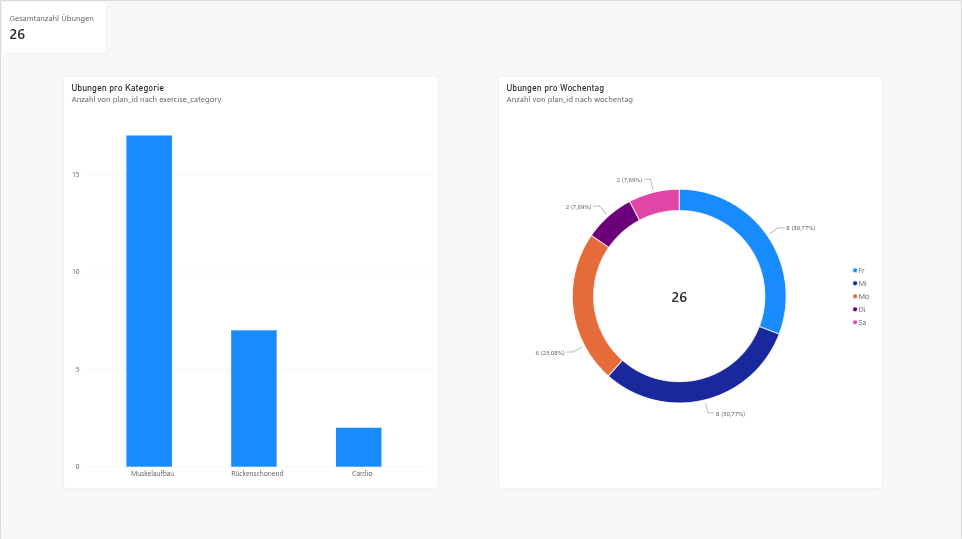

The page's visual inventory and layout, read from the dashboard file:
{"tool":"powerbi","page":{"name":"Seite 1","canvas":[1920,1080],"ordinal":0},"visuals":[{"type":"cardVisual","fields":{"Data":["CountNonNull(fitflow_data.plan_id)"]},"box":[0,0,194.7,104.9],"z":0},{"type":"columnChart","fields":{"Category":["fitflow_data.exercise_category"],"Y":["CountNonNull(fitflow_data.plan_id)"]},"box":[124.8,149.8,751.5,826.4],"z":1},{"type":"donutChart","fields":{"Category":["fitflow_data.wochentag"],"Y":["CountNonNull(fitflow_data.plan_id)"]},"box":[993.7,149.8,769,826.4],"z":2}]}

Visuals, with their boxes in screenshot pixels (x1, y1, x2, y2), scaled from the page's 1920x1080 canvas onto the 962x539 screenshot:
cardVisual - CountNonNull(fitflow_data.plan_id): (left=0, top=0, right=98, bottom=52)
columnChart - fitflow_data.exercise_category x CountNonNull(fitflow_data.plan_id): (left=63, top=75, right=439, bottom=487)
donutChart - fitflow_data.wochentag x CountNonNull(fitflow_data.plan_id): (left=498, top=75, right=883, bottom=487)
